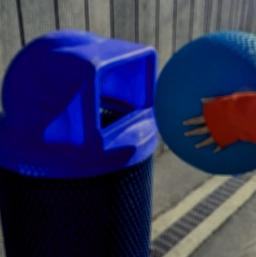algae: (156, 29, 256, 177)
